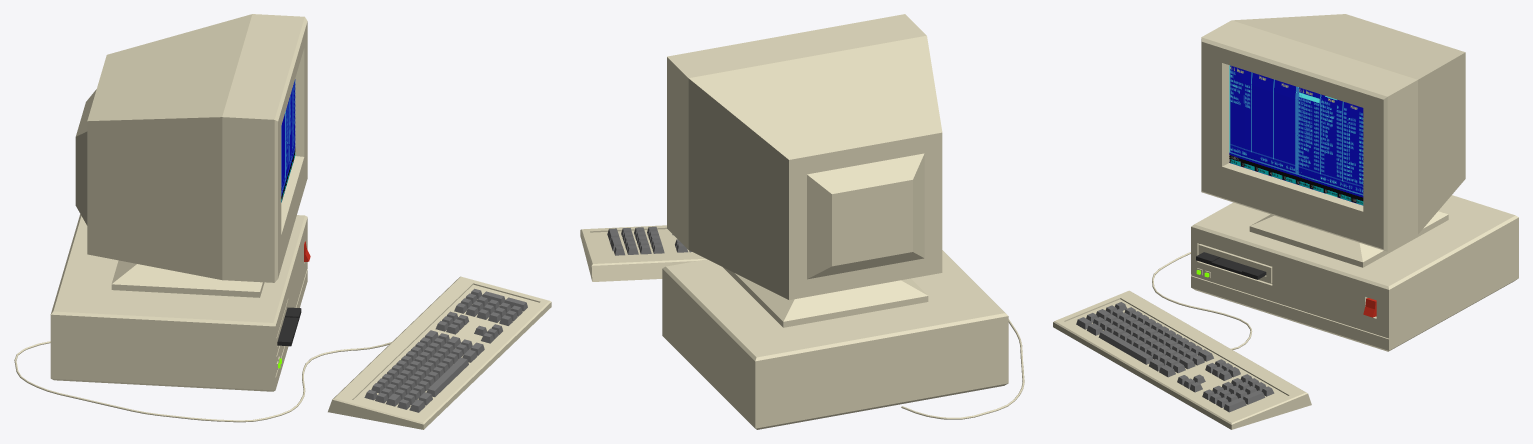
The model's file is old_computer_2.glb.
The picture shows the model from 3 angles, left to right: view 1: azimuth 30°, elevation 25°; view 2: azimuth 150°, elevation 25°; view 3: azimuth 270°, elevation 25°; orthographic projection. The views are drawn at different scales.
Parts seen in each view (by area): view 1: Plane.040, PC.002, Keyboard.001, Plane.018, Plane.035, Cable.002, Plane.036; view 2: Plane.040, PC.002, Keyboard.001, Plane.018, Cable.002; view 3: Plane.040, PC.002, Plane.035, Keyboard.001, Plane.018, Plane.036, Cable.002.
Boxes of the visible parts, x1,y1,x2,y2 form: Plane.040: (75,14,307,297); PC.002: (50,214,307,391); Keyboard.001: (328,276,551,429); Plane.018: (364,288,527,412); Plane.035: (274,218,307,389); Cable.002: (14,341,391,422); Plane.036: (277,307,301,346); Plane.040: (667,14,942,327); PC.002: (662,250,1008,429); Keyboard.001: (580,225,706,281); Plane.018: (607,226,691,255); Cable.002: (901,319,1024,419); Plane.040: (1201,14,1465,267); PC.002: (1191,195,1518,351); Plane.035: (1191,227,1388,350); Keyboard.001: (1053,290,1311,429); Plane.018: (1076,302,1274,412); Plane.036: (1196,252,1266,279); Cable.002: (1152,252,1252,349).
Size of the model in its own units: 2.67 by 1.48 by 2.41.
Materials: 6 (1 with a texture image).
